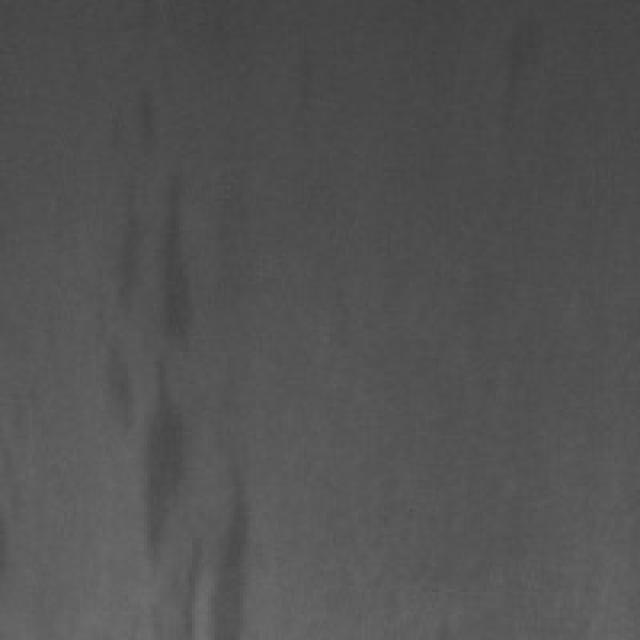inclusion: (93, 70, 246, 630)
